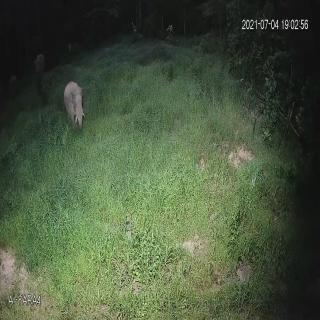Elephant: (62, 75, 87, 133)
